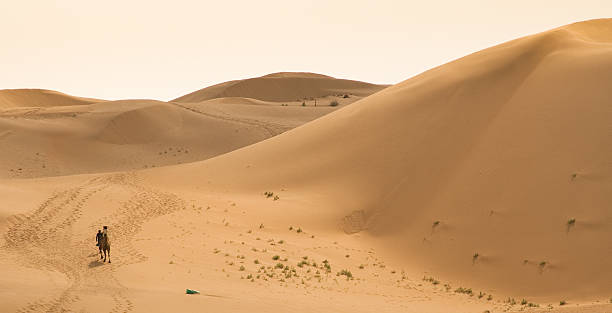animal_footprint: (0, 173, 186, 311), (0, 179, 104, 311), (102, 183, 185, 264), (172, 103, 287, 135)
